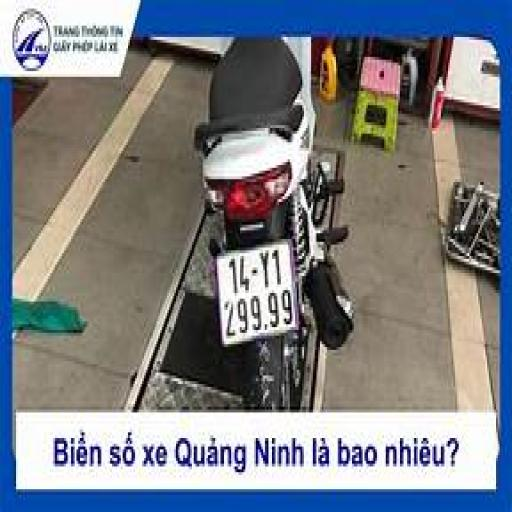place: (218, 247, 290, 334)
